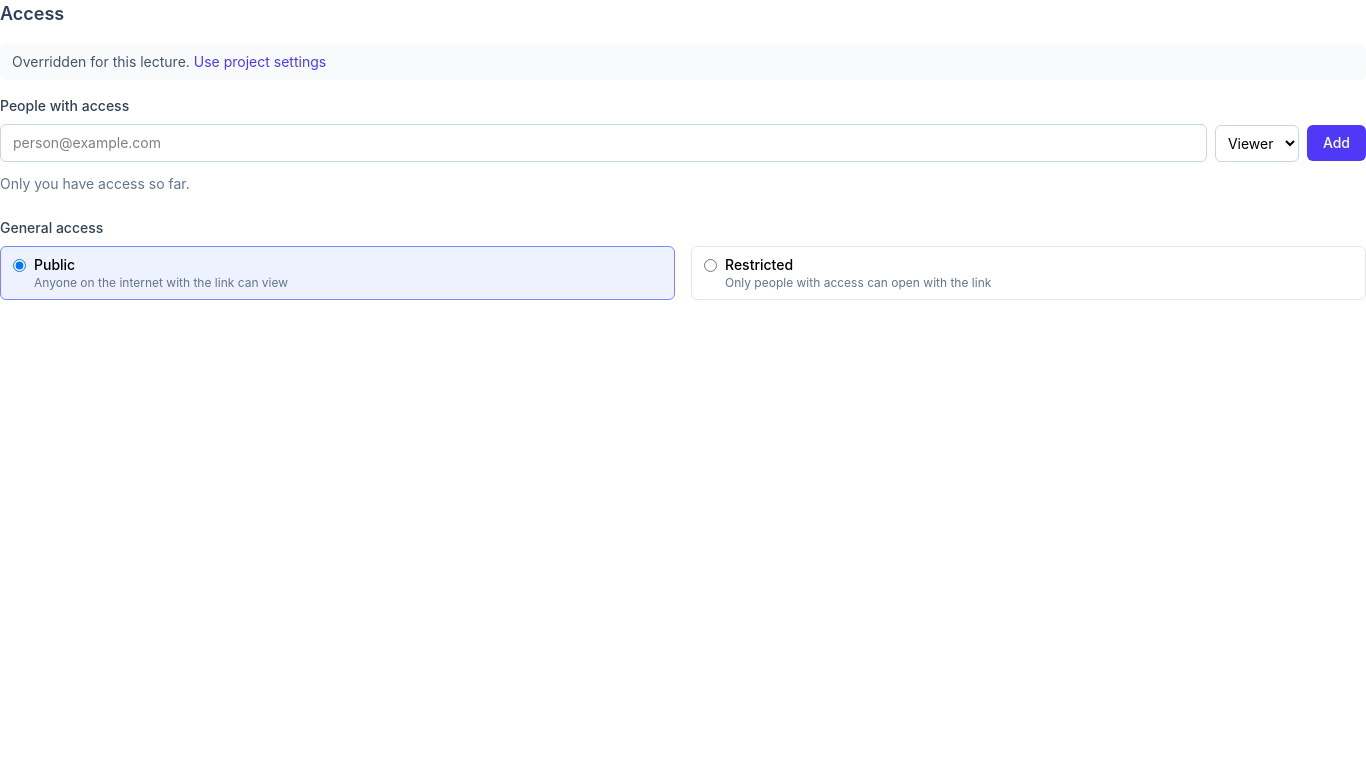
Test case: AccessSettings › offers a confirmation link when the account is unconfirmed
Type "byron@example.com" into the field named "Add people by email" at (603,143), box [0,124,1207,162]
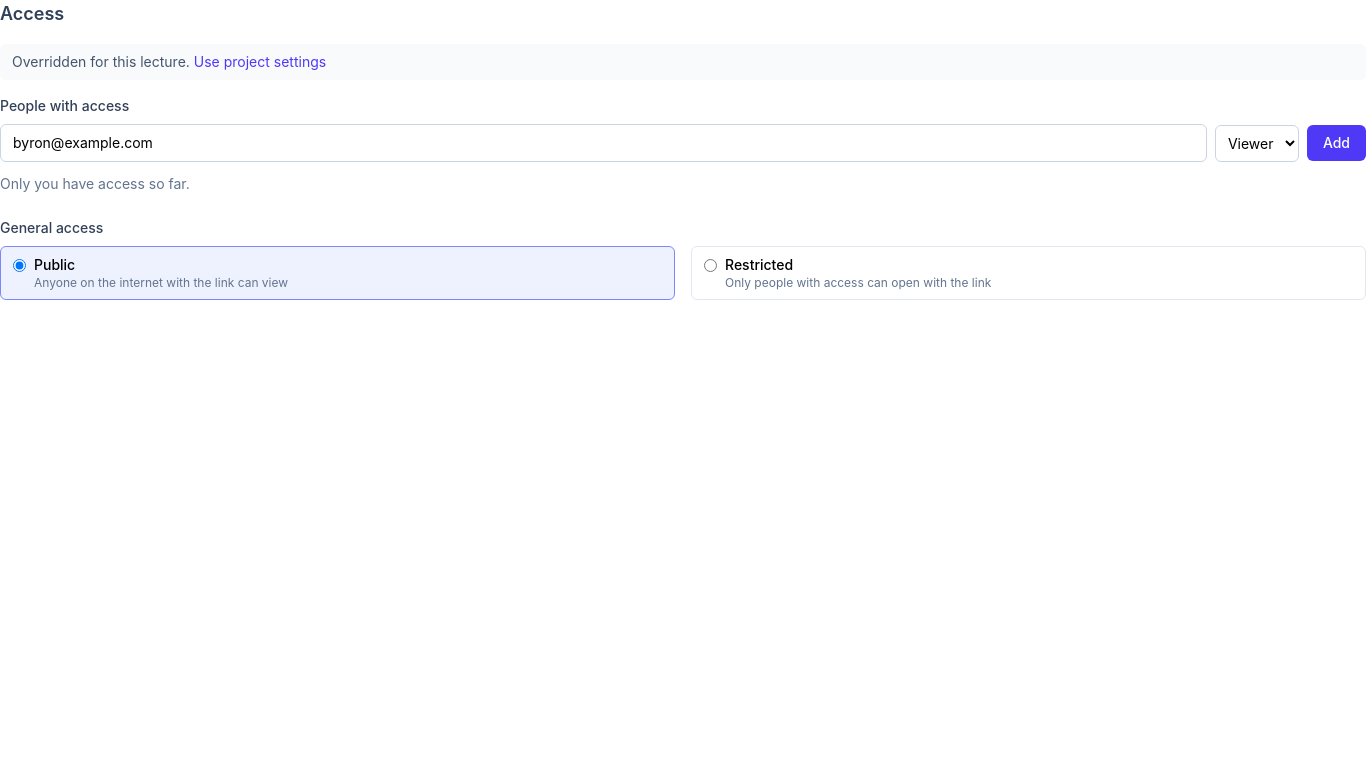
Click the button "Add" at (1336,143), box [1307,125,1365,161]
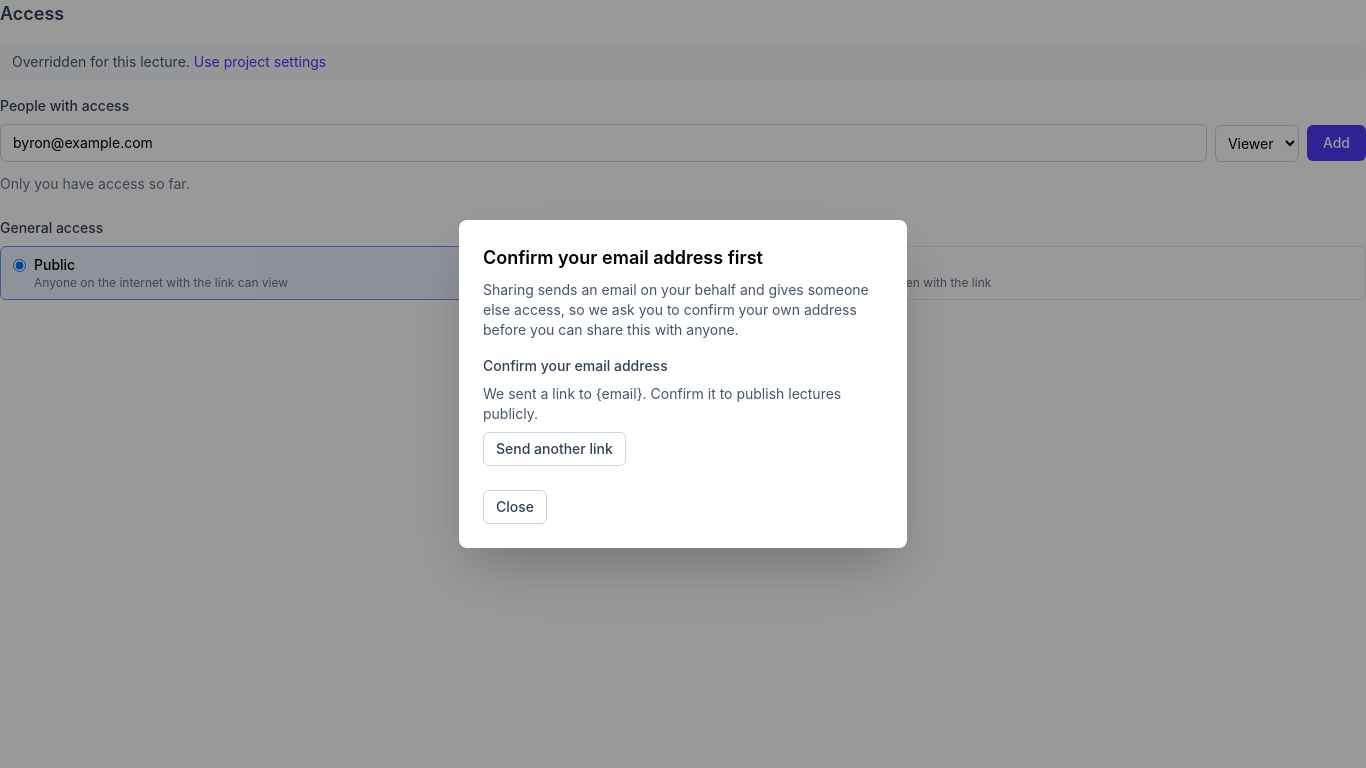
Expected: the button "Send another link" is shown, [483,432,626,466]
